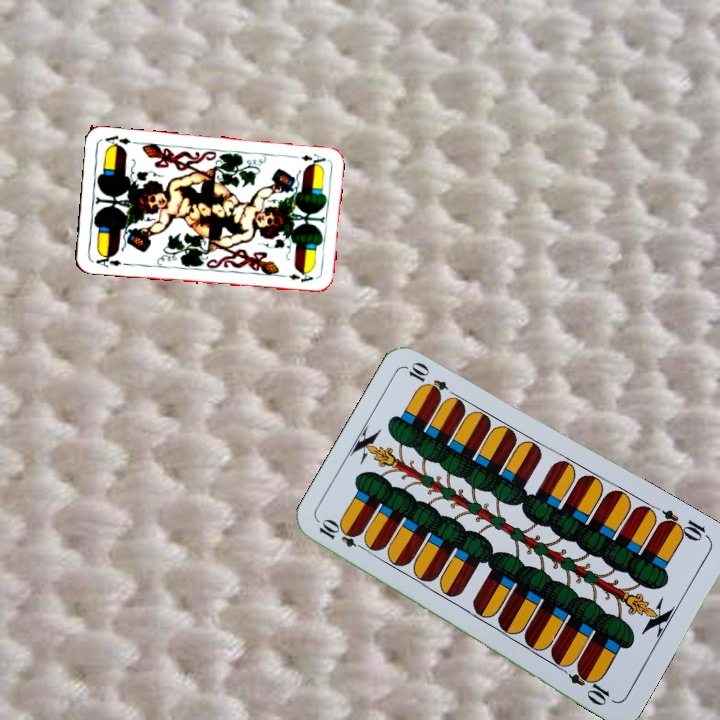E10: (655, 505, 712, 545), (315, 517, 371, 554)
EA: (288, 149, 328, 168), (92, 250, 124, 270)
